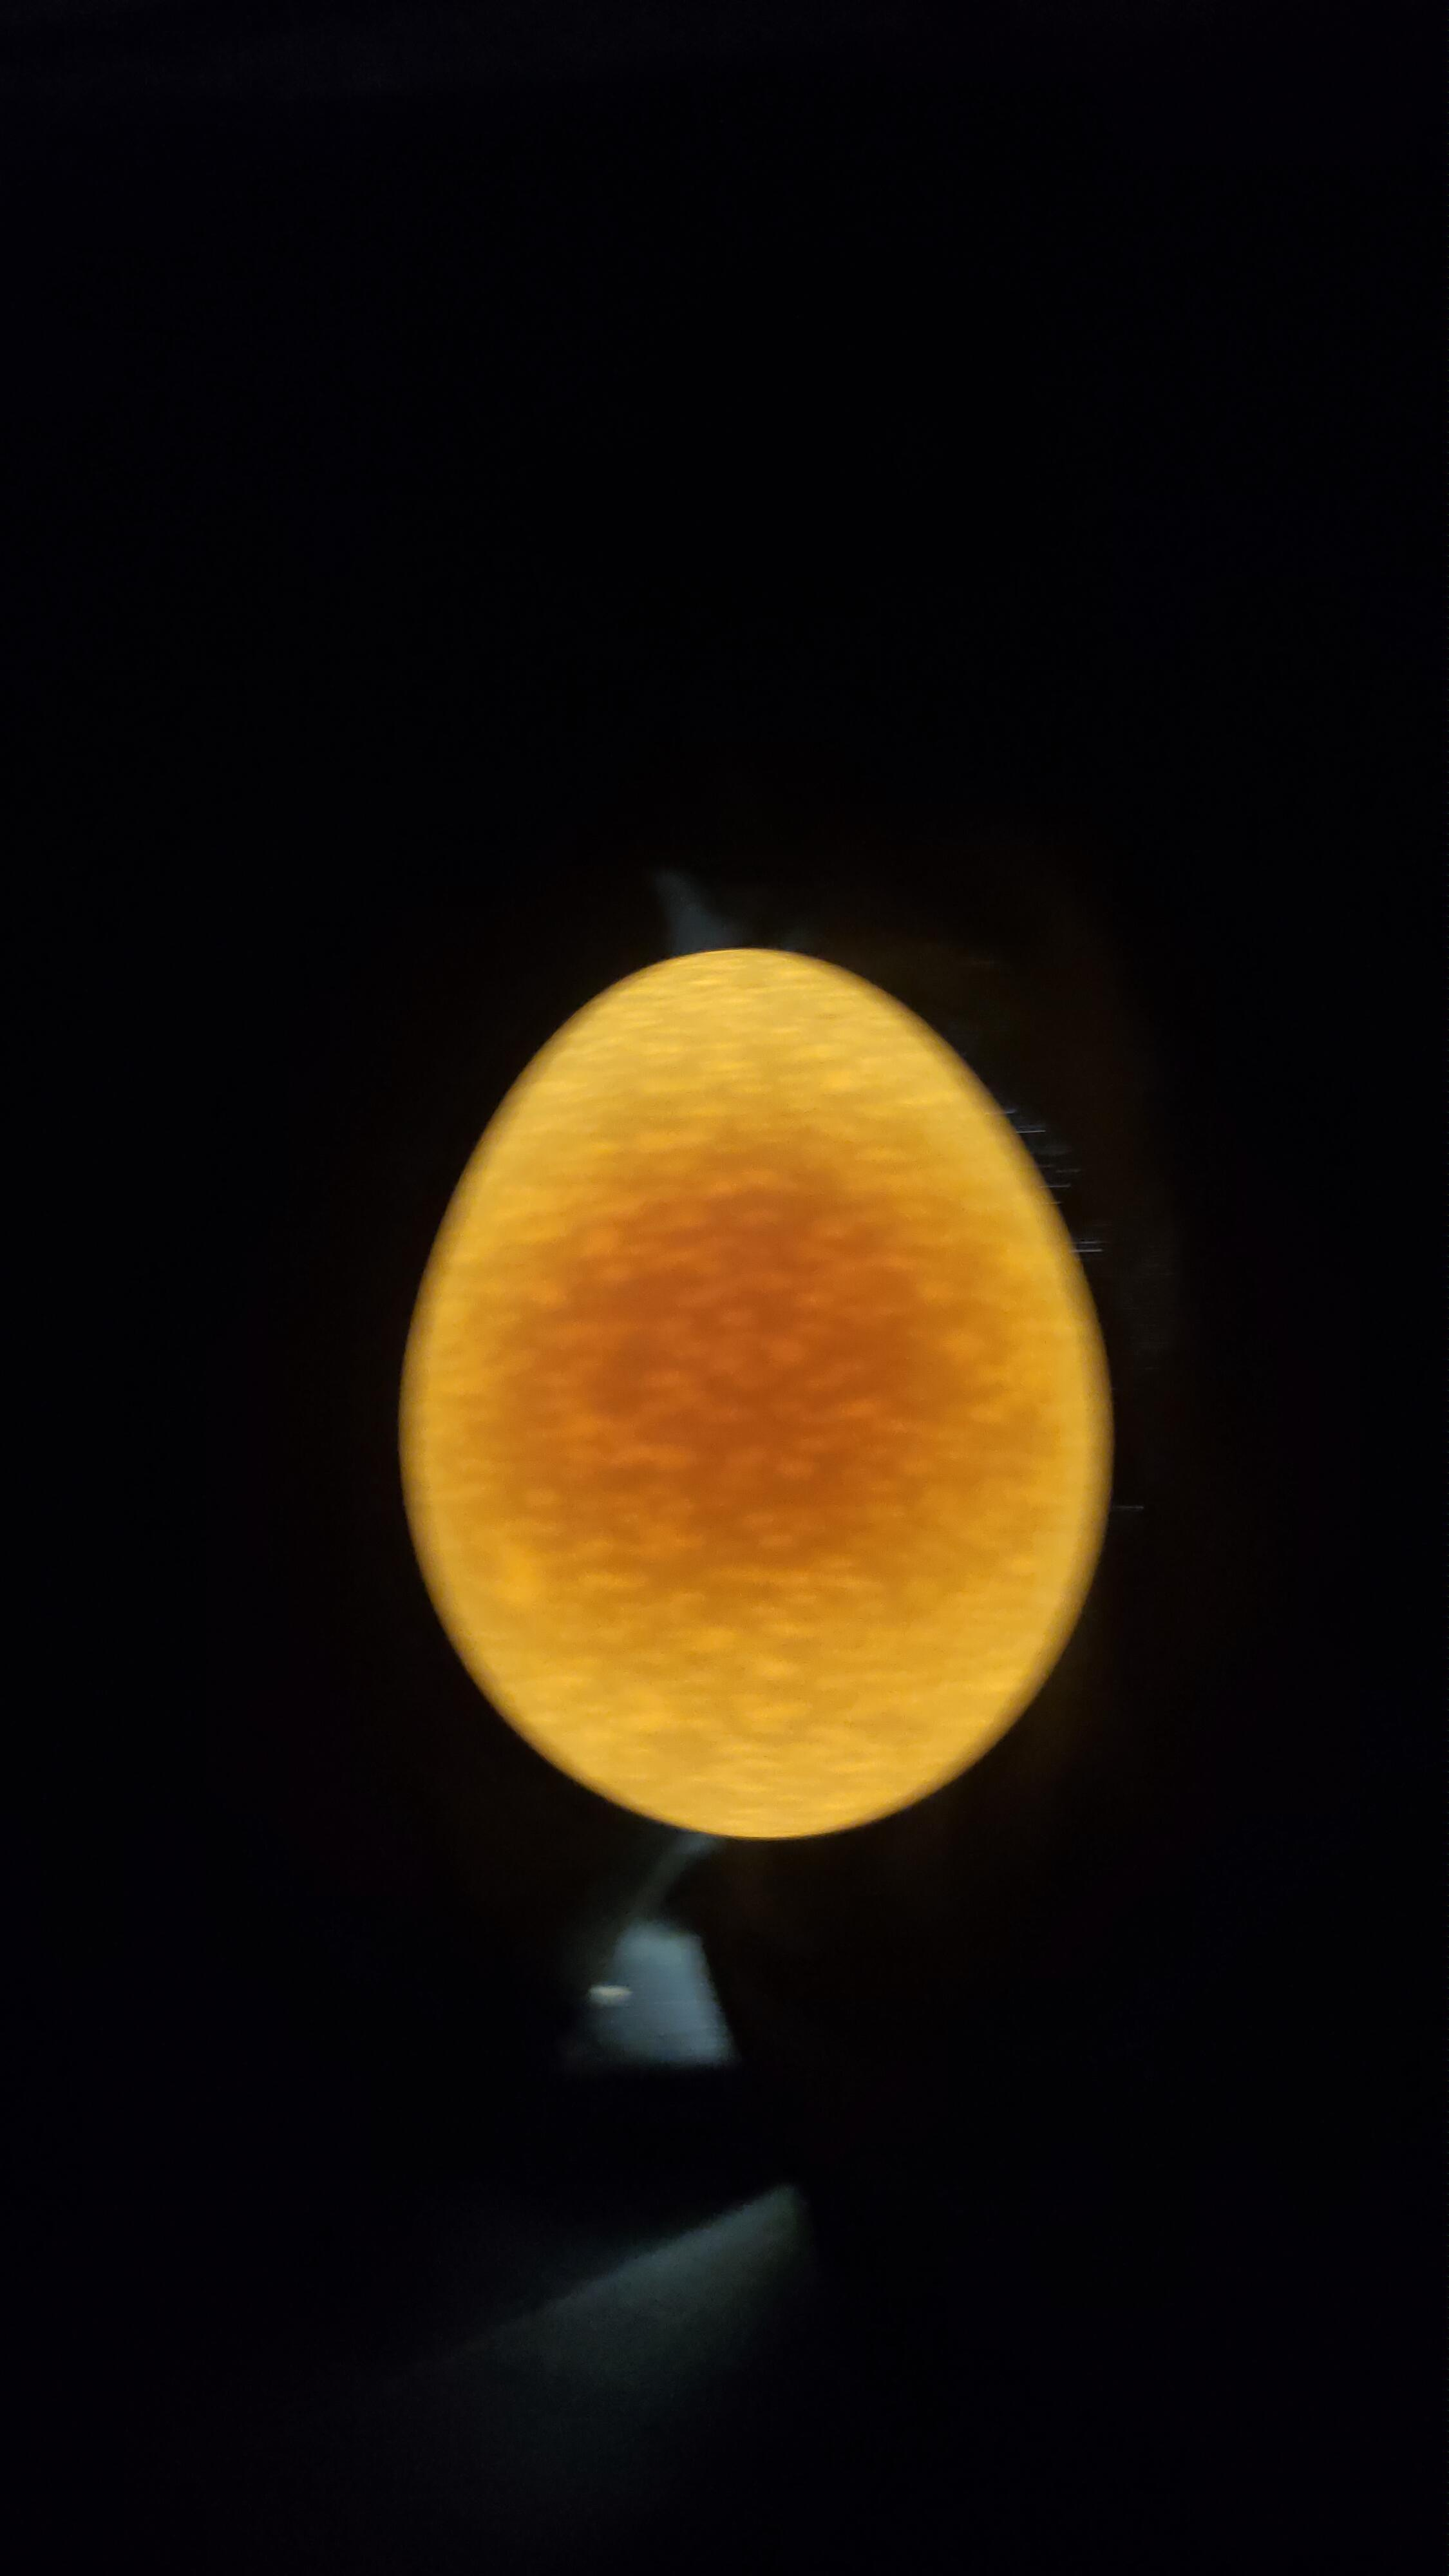A - Good: (380, 908, 1146, 1900)
